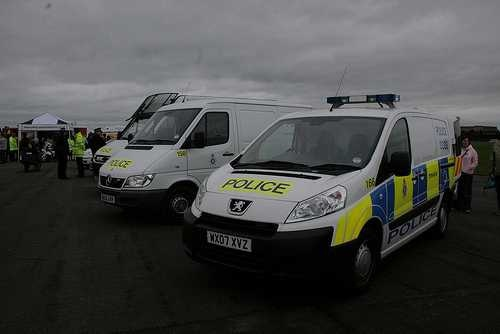Police Van: (190, 102, 466, 300), (86, 100, 238, 247)
